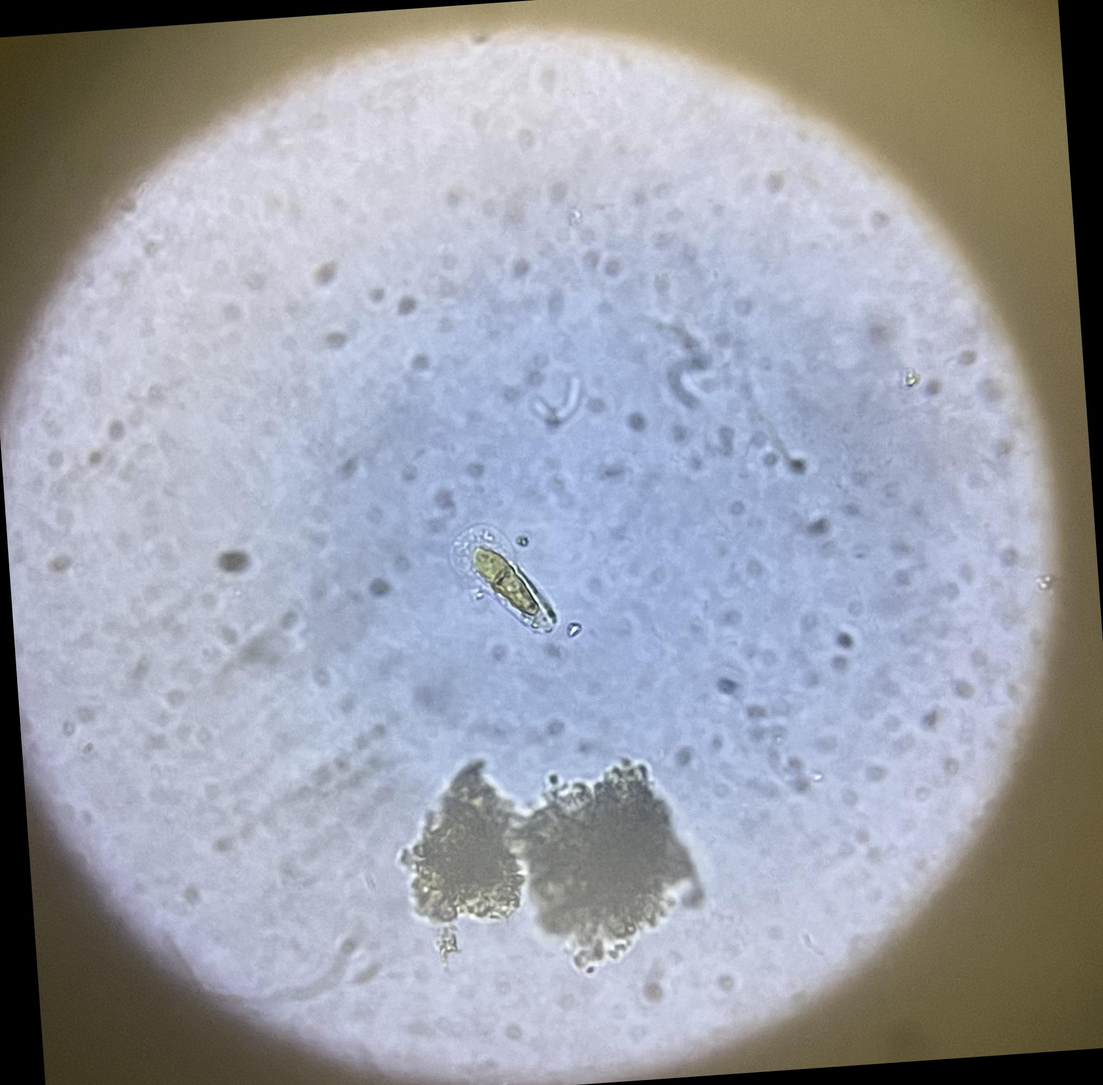Euglena: (437, 506, 563, 643)
